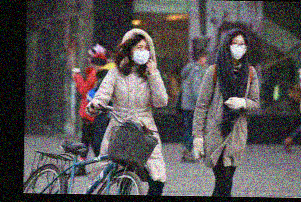with_mask: (131, 42, 151, 65), (229, 38, 248, 60)
